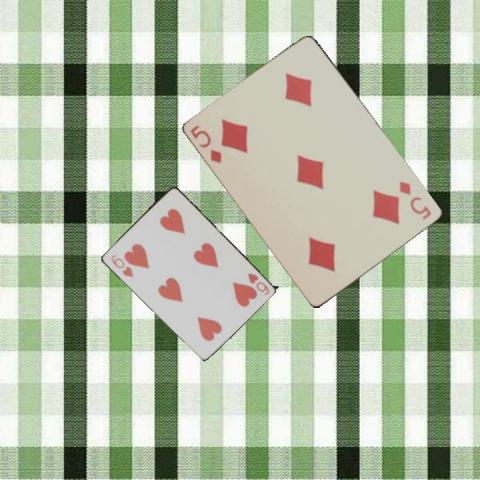5d: (397, 178, 433, 221), (188, 122, 224, 165)
6h: (108, 251, 135, 279), (244, 270, 270, 297)
